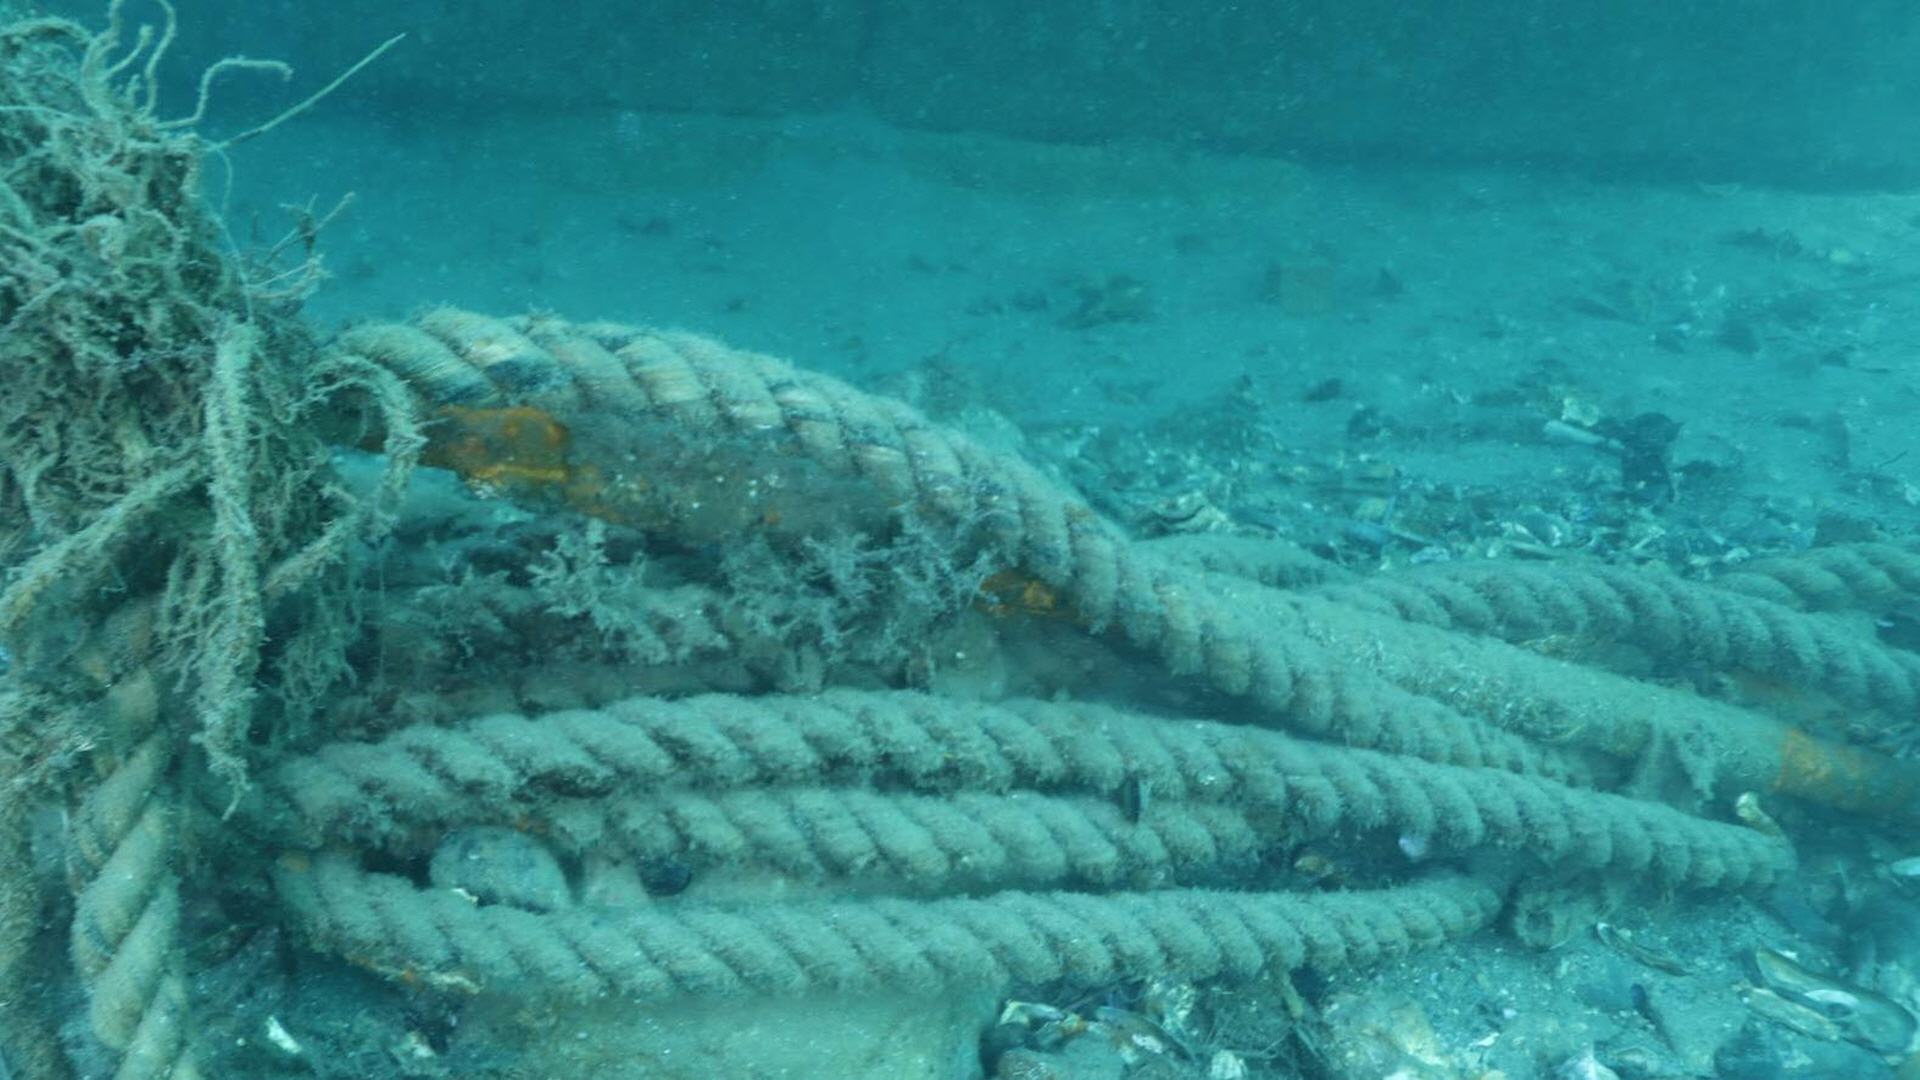bundle of ropes: (0, 302, 1920, 1080)
